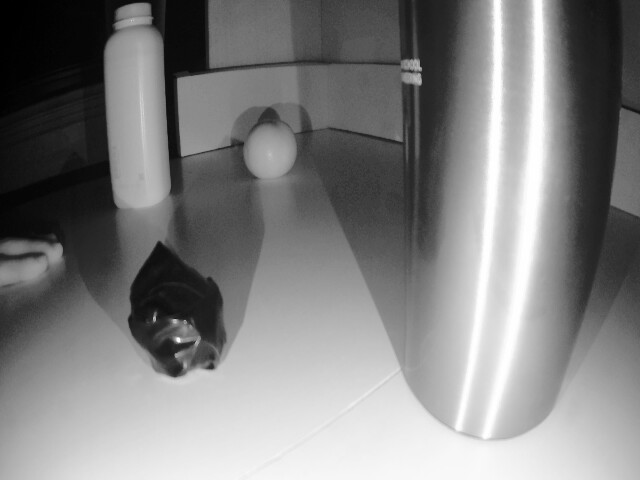black: (116, 237, 234, 367)
